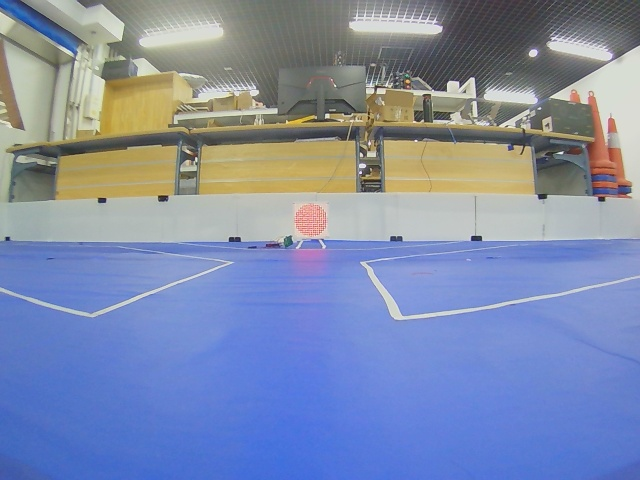red: (294, 203, 328, 238)
